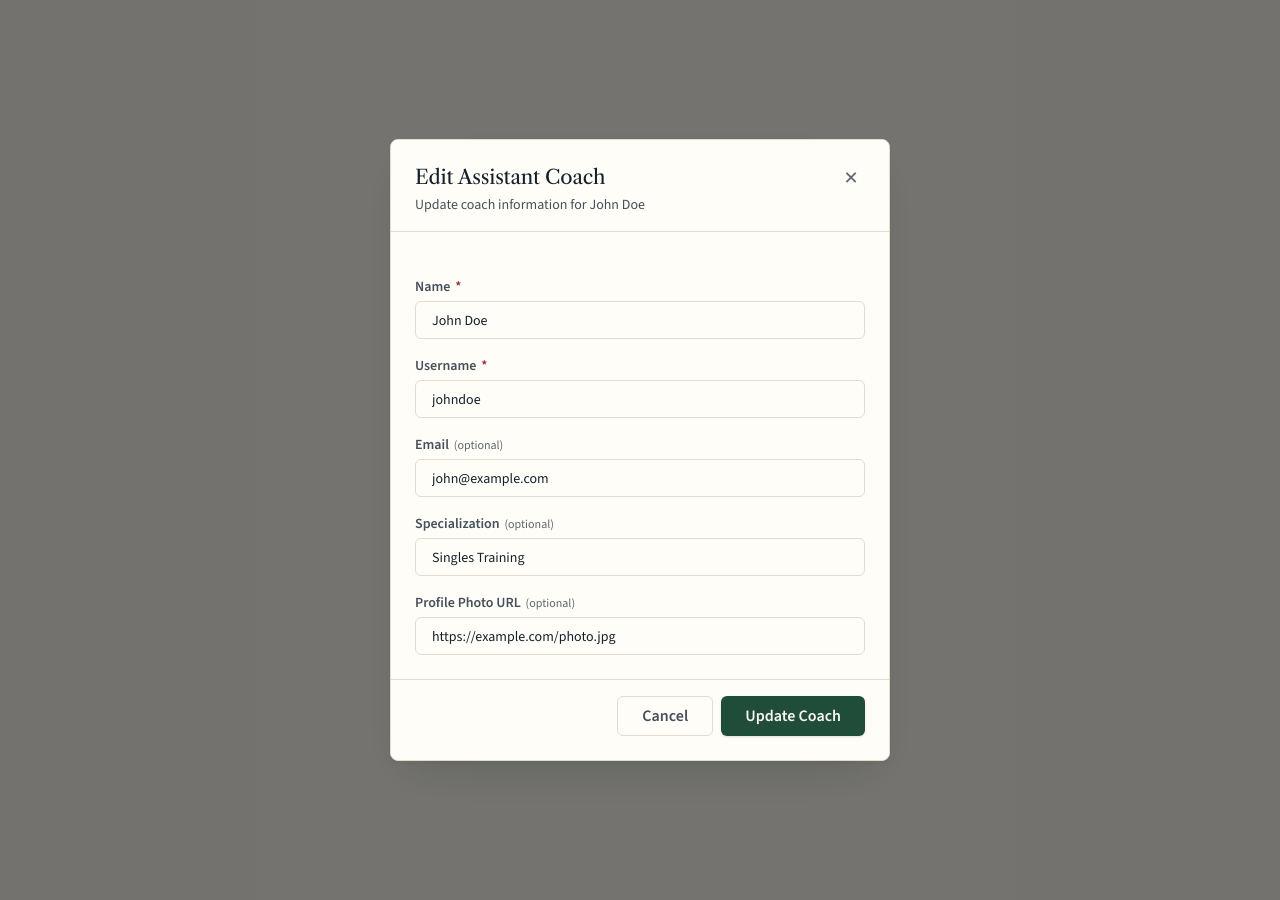
Scenario: EditCoachModal › validates email format
Replace the text in the field labelled "Email (optional)" with "invalid-email". click: (640, 478)
box: x1=415 y1=459 x2=865 y2=497
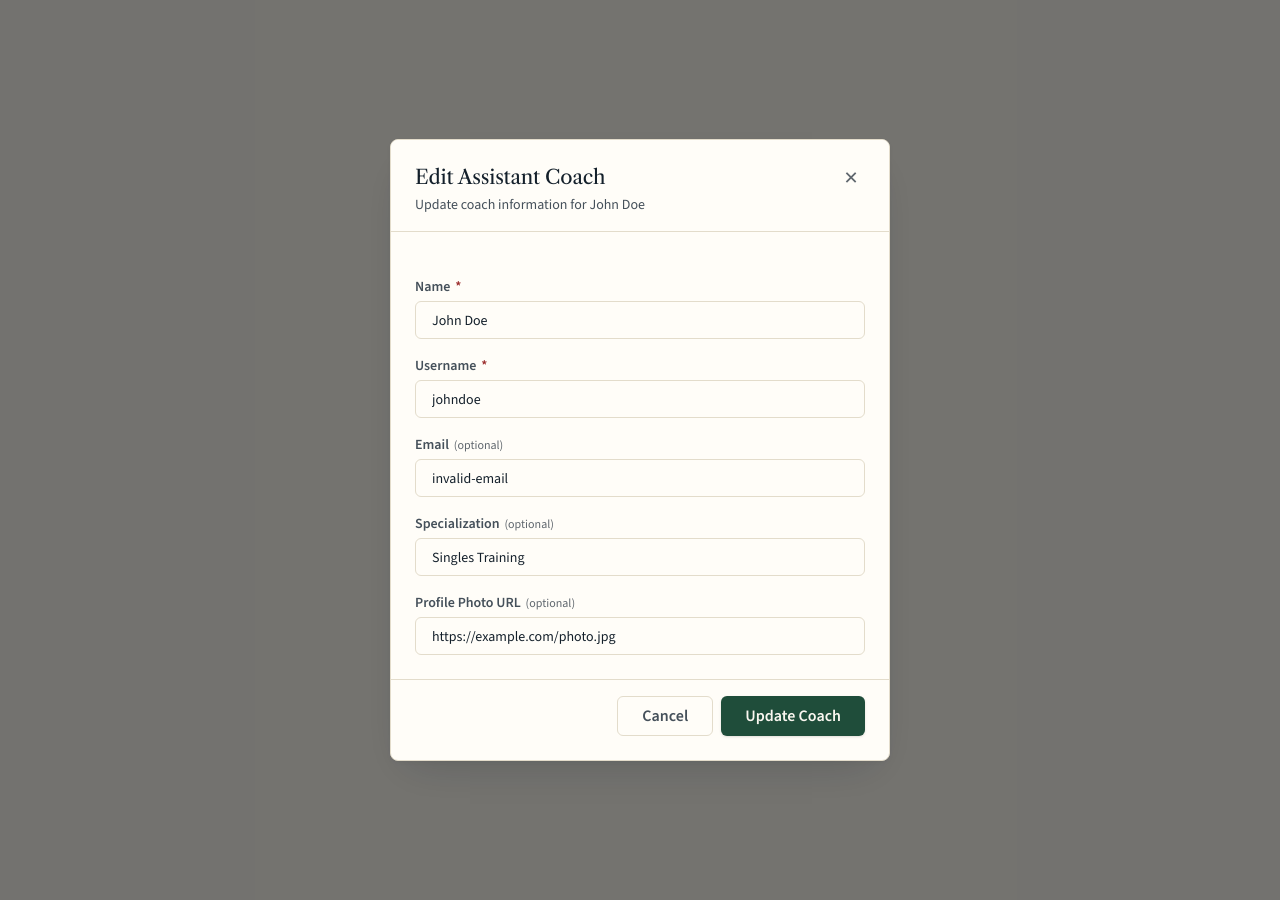
Click the button "Update Coach". click: (793, 716)
box: x1=721 y1=696 x2=865 y2=736
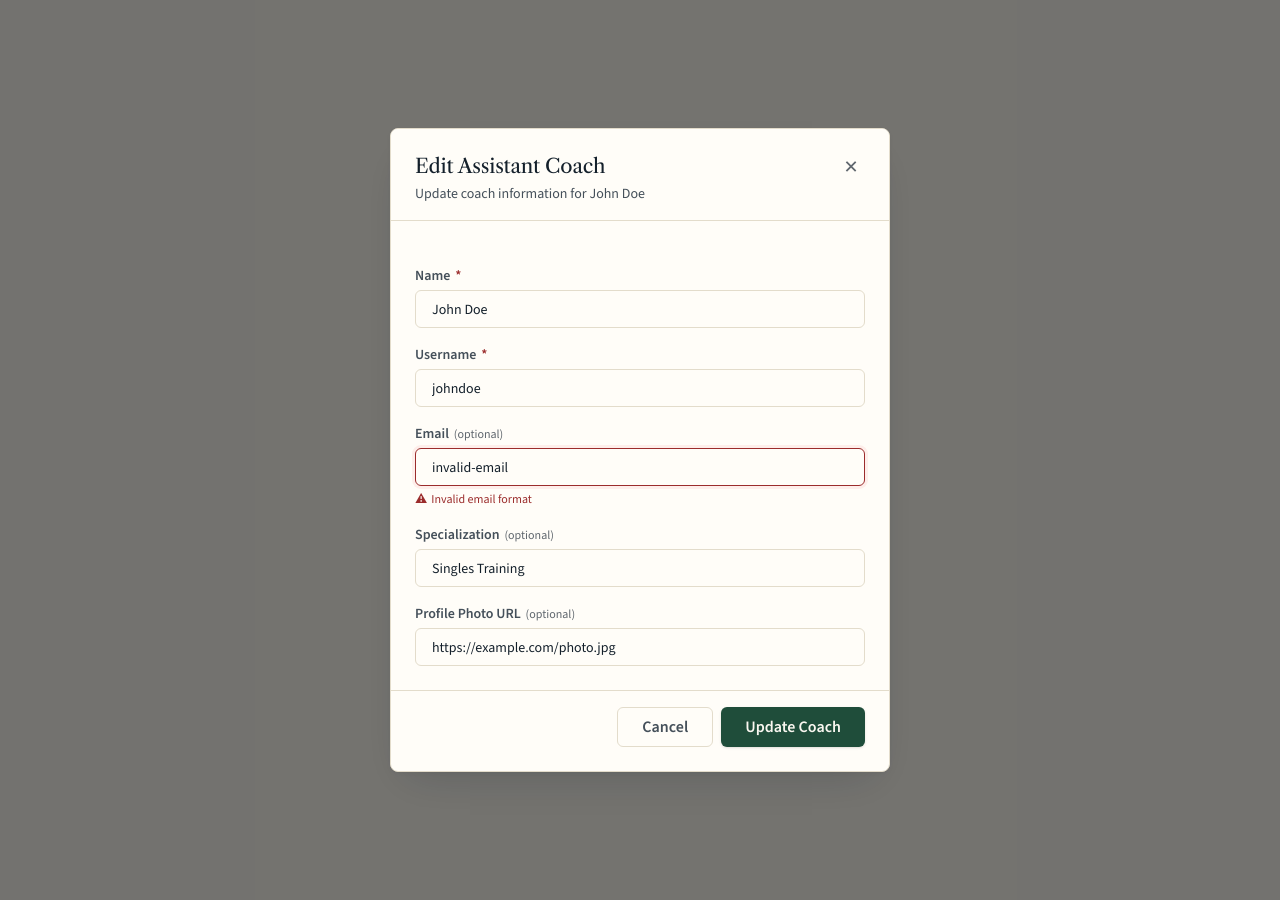
Expected: the text "Invalid email format" is shown, x1=431 y1=491 x2=532 y2=507
